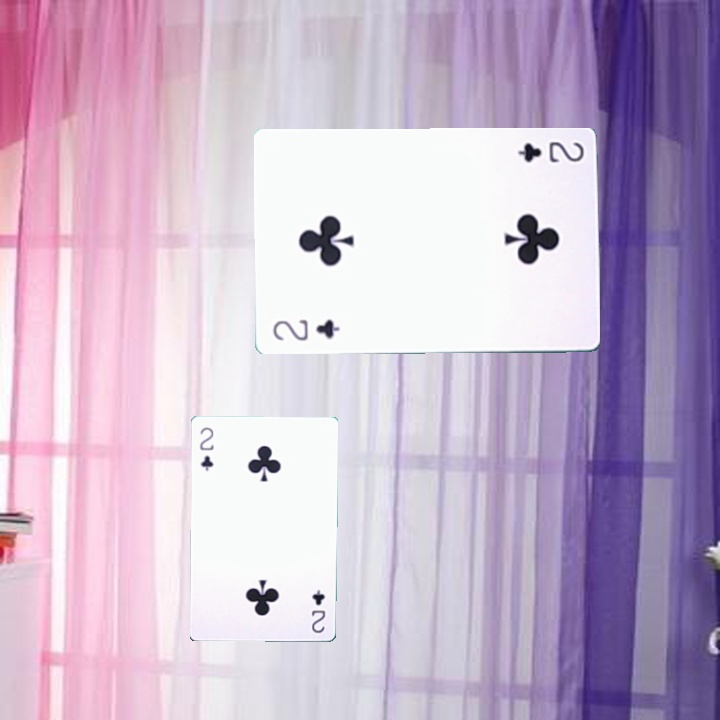2c: (269, 315, 342, 343), (514, 138, 586, 165), (195, 423, 216, 474), (308, 586, 327, 635)
